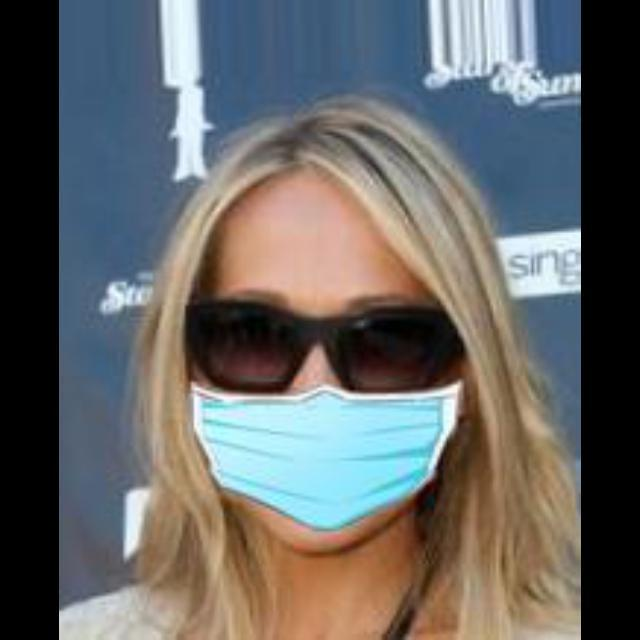suspicion: (187, 120, 468, 552)
